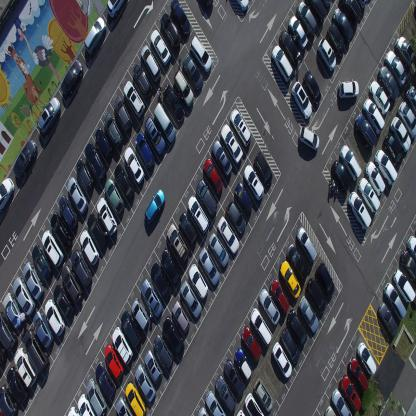car: (23, 328, 50, 376), (13, 138, 37, 180), (36, 96, 61, 136), (153, 102, 176, 144), (221, 123, 244, 165), (14, 346, 37, 388), (140, 278, 164, 318), (348, 191, 372, 231), (383, 281, 407, 321), (84, 142, 107, 183), (83, 15, 106, 56), (166, 222, 189, 263), (119, 309, 142, 350), (60, 266, 84, 305), (354, 113, 378, 152), (217, 216, 240, 256), (122, 79, 145, 119), (70, 248, 93, 288), (249, 307, 272, 347), (60, 59, 84, 97), (187, 195, 209, 236), (230, 107, 252, 148), (198, 246, 220, 287), (162, 316, 184, 357), (279, 259, 301, 300), (286, 242, 308, 283), (12, 277, 35, 316), (392, 267, 416, 304), (144, 117, 166, 157), (96, 196, 118, 236), (291, 80, 313, 120), (150, 262, 172, 302), (134, 363, 156, 403), (223, 358, 245, 398), (41, 229, 64, 267), (339, 144, 362, 182), (194, 178, 216, 217), (162, 83, 184, 122), (31, 243, 53, 282), (6, 366, 28, 405), (271, 44, 293, 83), (144, 187, 166, 226), (215, 374, 237, 413), (375, 149, 398, 186), (362, 97, 385, 134), (173, 67, 194, 107), (124, 146, 145, 186), (132, 62, 153, 102), (140, 44, 161, 84), (182, 53, 204, 91), (87, 212, 109, 250), (32, 312, 54, 350), (190, 34, 212, 72), (22, 262, 44, 300), (2, 292, 24, 330), (85, 378, 107, 416), (258, 288, 280, 326), (385, 50, 407, 88), (340, 374, 362, 412), (211, 138, 232, 177), (52, 282, 73, 321), (50, 212, 72, 249), (149, 29, 171, 66), (278, 29, 300, 66), (180, 281, 202, 318), (94, 361, 116, 398), (358, 176, 380, 213), (331, 8, 354, 43), (299, 295, 319, 335), (202, 158, 223, 196), (114, 163, 135, 201), (44, 299, 65, 337), (103, 112, 124, 150), (160, 13, 181, 51), (170, 0, 191, 38), (160, 248, 181, 286), (297, 224, 318, 262), (378, 65, 400, 101), (390, 115, 412, 151), (135, 132, 155, 171), (104, 179, 125, 216), (67, 177, 88, 214), (296, 0, 317, 37), (241, 324, 262, 361), (378, 301, 399, 338), (364, 161, 386, 196), (369, 80, 391, 115), (382, 132, 404, 167), (244, 163, 264, 201), (80, 229, 100, 267), (112, 326, 132, 364), (104, 342, 124, 380), (272, 341, 292, 379), (286, 308, 306, 346), (307, 276, 327, 314), (225, 199, 246, 235), (208, 232, 229, 268), (349, 356, 370, 392), (188, 263, 208, 300), (269, 278, 289, 315), (280, 327, 300, 364), (394, 35, 416, 68), (153, 332, 173, 368), (125, 381, 146, 415), (398, 100, 416, 139), (58, 195, 78, 230), (114, 96, 132, 134), (253, 378, 273, 412), (331, 159, 351, 193), (356, 340, 376, 374), (316, 261, 334, 298), (289, 13, 308, 48), (144, 348, 163, 383), (303, 69, 321, 105), (254, 150, 272, 186), (94, 127, 113, 161), (178, 212, 197, 246), (317, 38, 336, 72), (171, 300, 190, 334), (234, 346, 253, 380), (0, 310, 16, 350), (234, 182, 252, 217), (76, 157, 94, 192), (330, 387, 352, 415), (327, 23, 345, 57), (131, 297, 149, 330), (0, 177, 15, 216), (304, 0, 327, 25), (339, 0, 362, 25), (298, 126, 320, 152), (400, 249, 416, 284), (205, 390, 226, 415), (0, 383, 16, 415), (244, 391, 264, 416), (338, 80, 360, 100), (105, 0, 128, 19), (78, 393, 96, 415), (116, 395, 134, 415), (406, 84, 416, 116), (406, 234, 416, 263), (231, 0, 249, 13), (0, 340, 7, 365), (196, 0, 214, 9), (67, 405, 81, 415), (324, 404, 336, 415), (197, 405, 210, 415), (358, 0, 368, 10), (236, 408, 247, 415), (323, 0, 332, 7)
